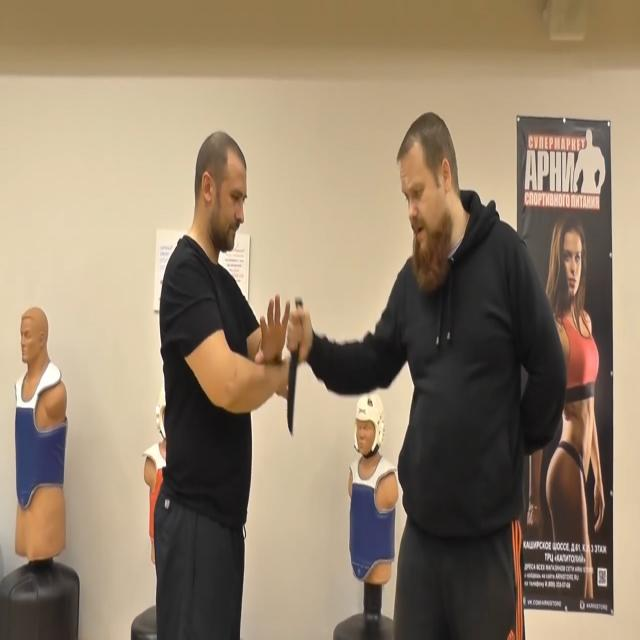knife: (287, 356, 303, 445)
